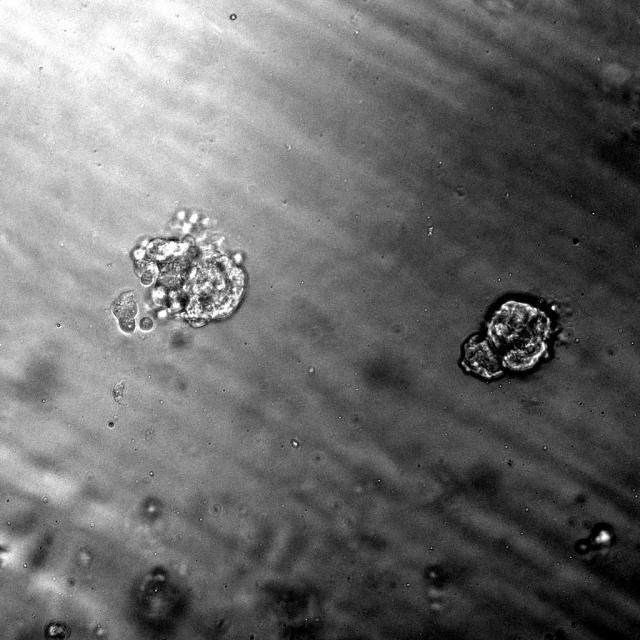organoid: (131, 209, 248, 328), (459, 288, 562, 381), (111, 290, 138, 334), (44, 620, 71, 639), (138, 316, 154, 331)
